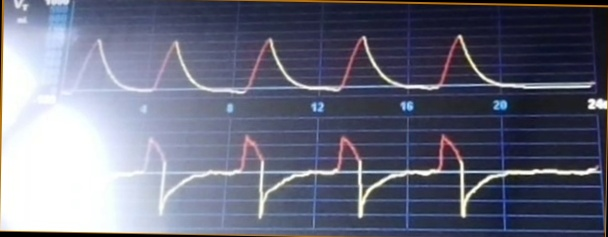Normal Flow: (117, 126, 596, 223)
Normal Volume: (66, 22, 593, 95)
